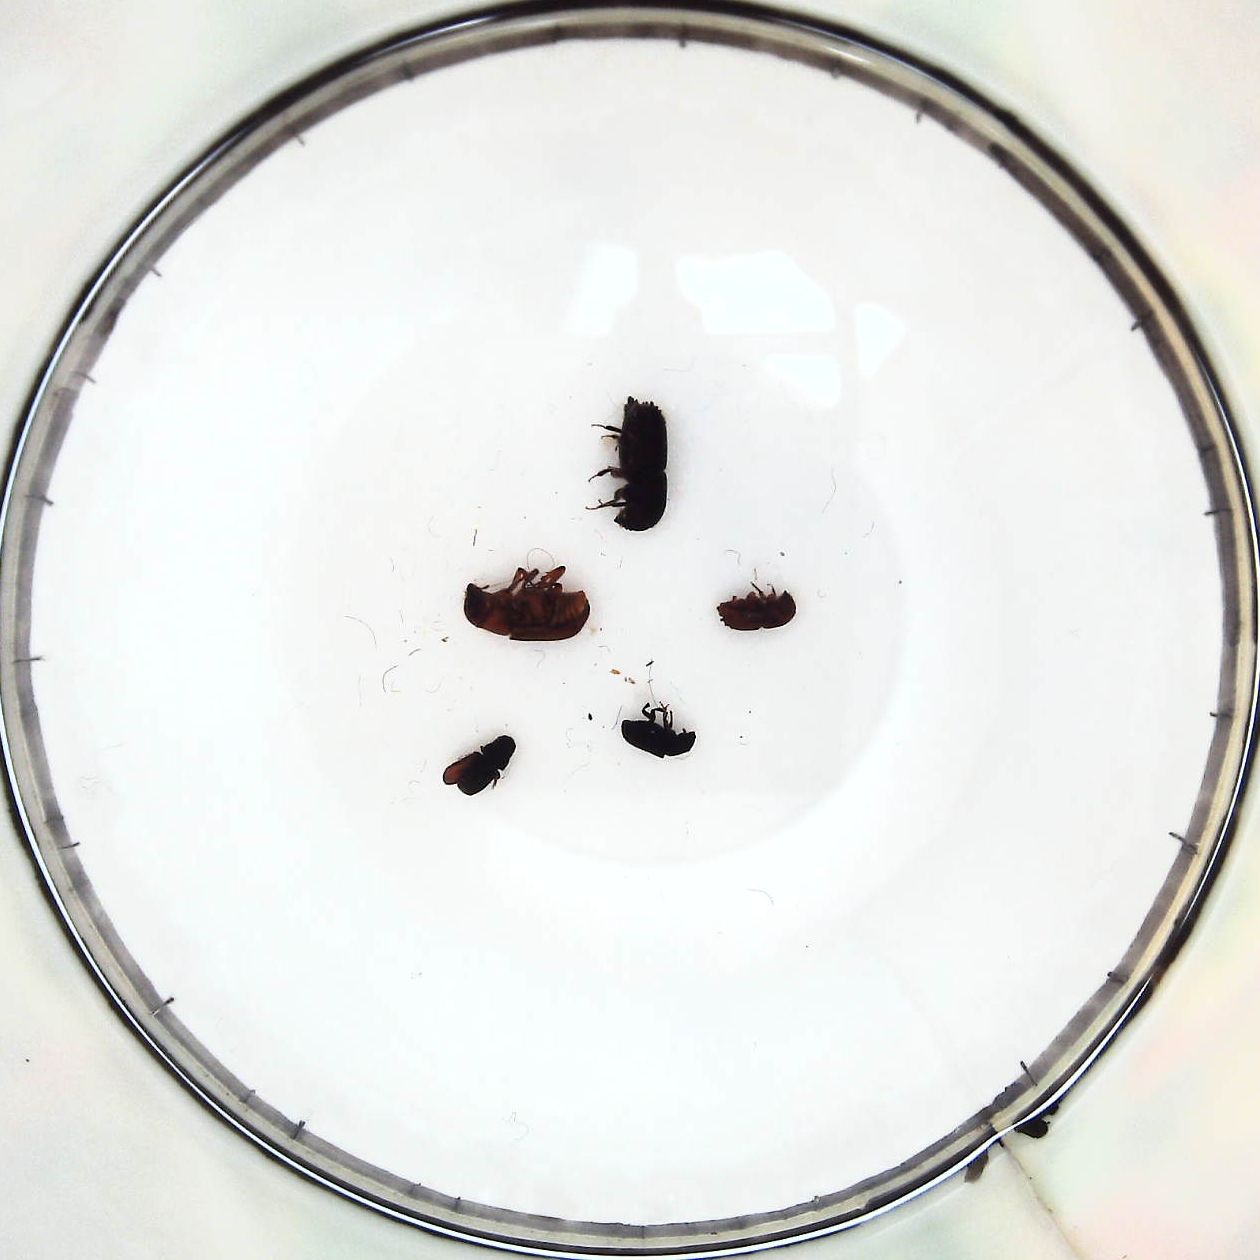Boerner: (603, 390, 672, 537)
Leconte: (467, 571, 591, 646)
Linnaeus: (713, 592, 797, 631)
armandi: (441, 732, 518, 798)
coleoptera: (618, 713, 695, 762)
